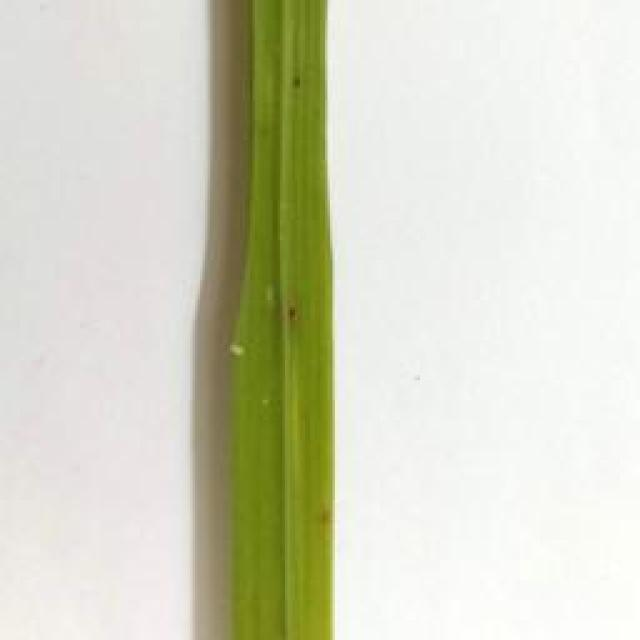Brown_Spot: (286, 53, 306, 92), (282, 297, 297, 326), (320, 509, 334, 522)
